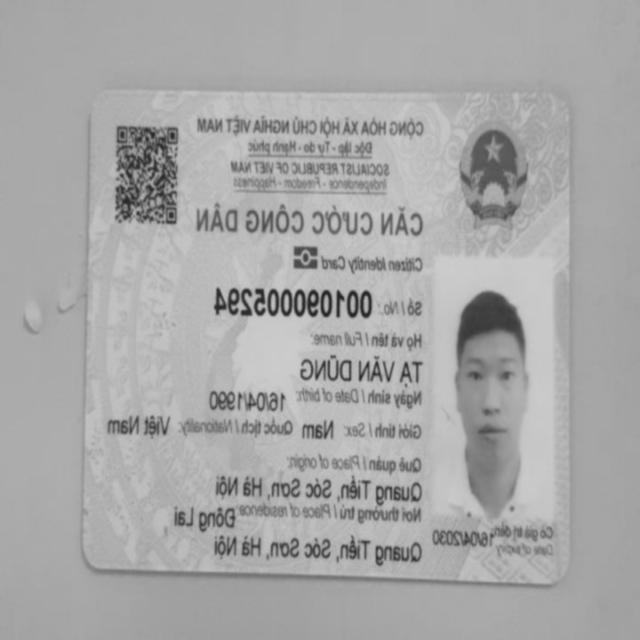bottom_left: (534, 546, 584, 597)
bottom_right: (70, 536, 116, 583)
image_person: (432, 261, 554, 521)
top_left: (535, 79, 583, 130)
top_right: (75, 78, 124, 127)
